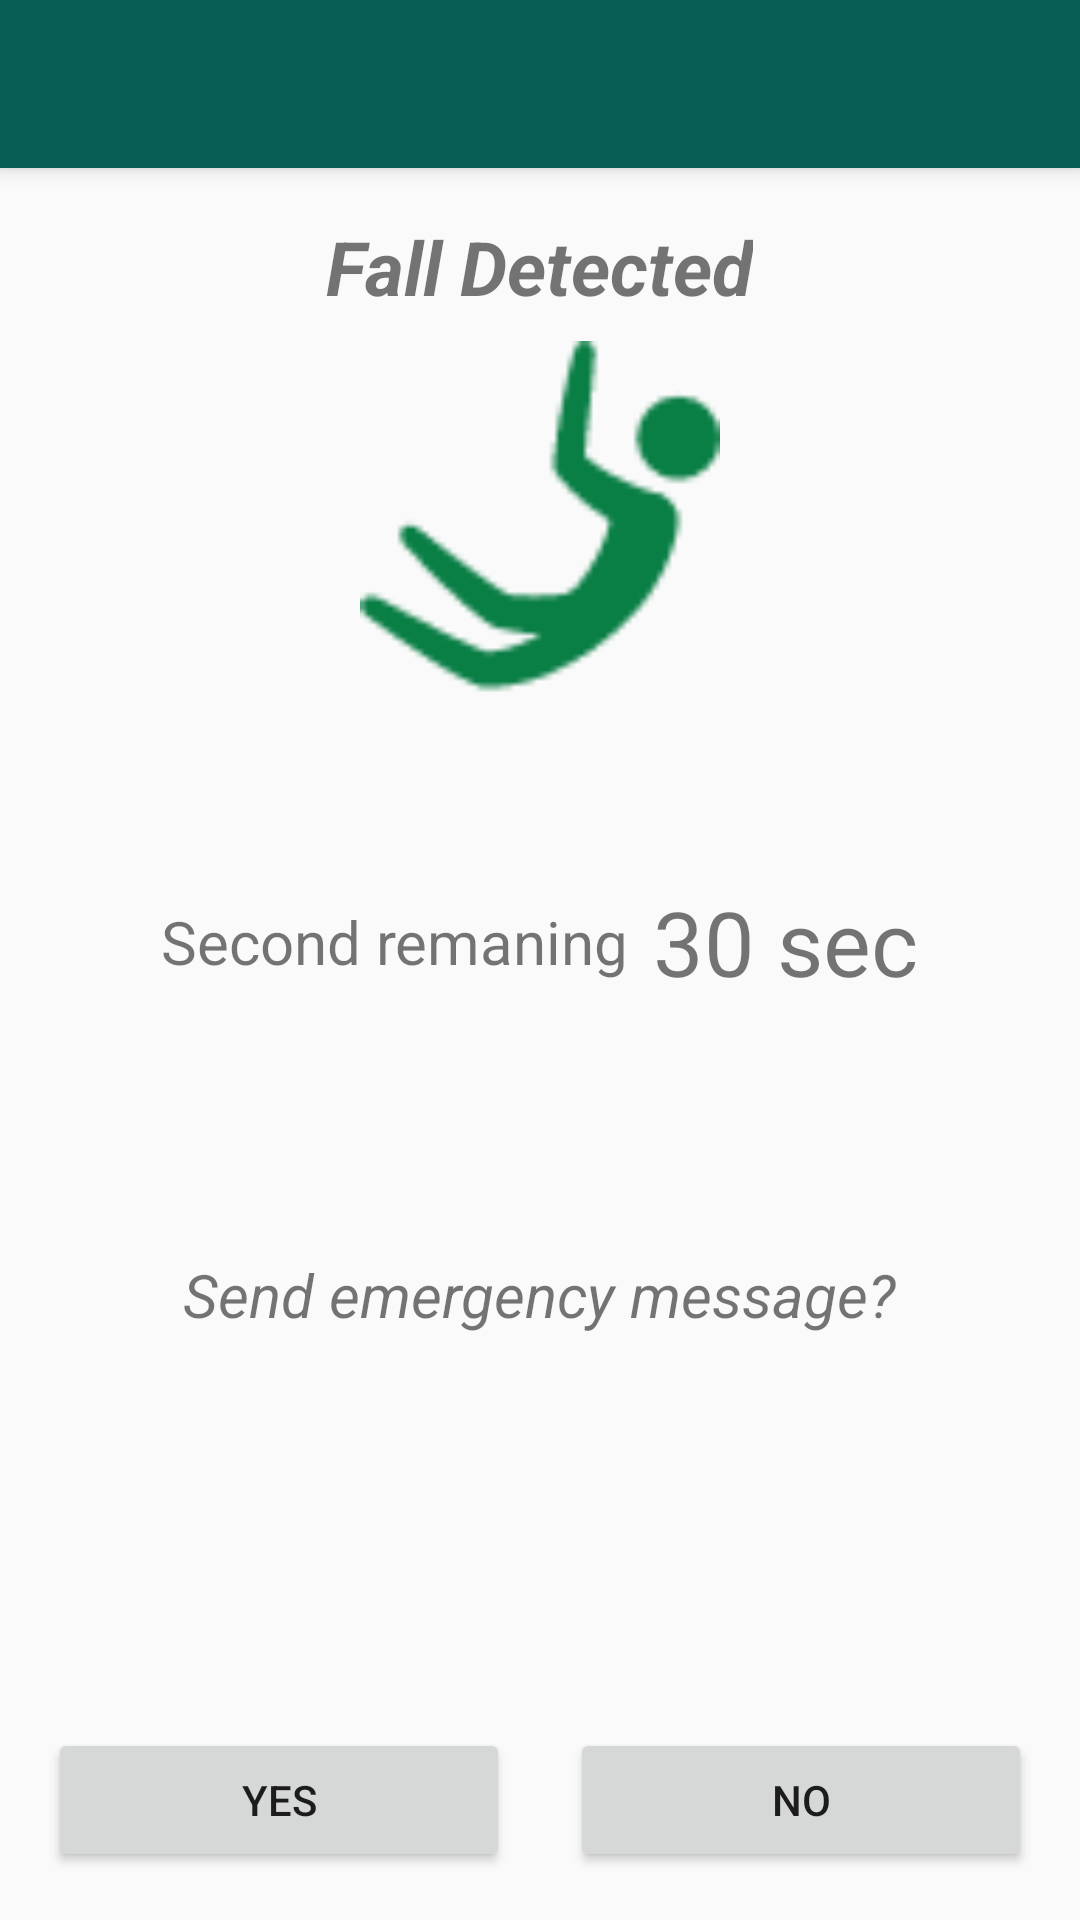

Icons on this 1080px x 1920px Android screen, each with its box as (x1, y1, x2, y2):
fall app: (360, 341, 720, 691)
